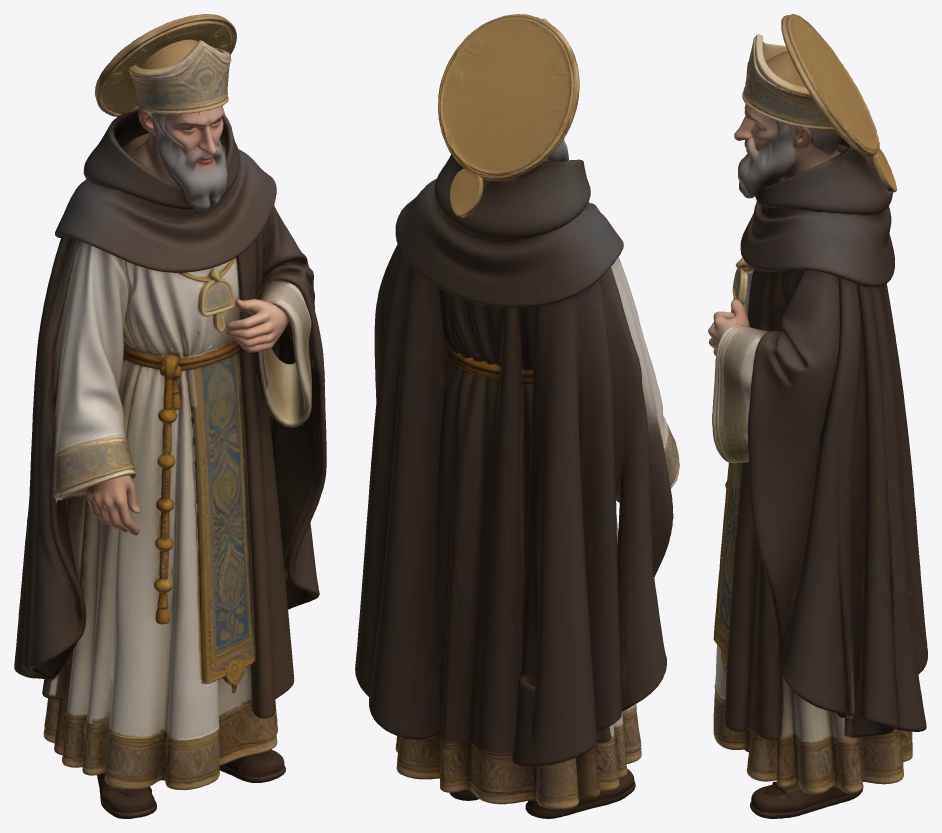
The model's file is Γρηγοριος compressed.glb.
3 renders of one model, left to right at view 1: azimuth 30°, elevation 25°; view 2: azimuth 150°, elevation 25°; view 3: azimuth 270°, elevation 25°, orthographic.
Visible parts, largest first — view 1: node_0; view 2: node_0; view 3: node_0.
Part boxes in pixels (x1,y1,x2,y2): node_0: [14, 14, 326, 818]; node_0: [355, 14, 679, 818]; node_0: [708, 14, 927, 818].
Bounding box in the file's own units: 0.4473 × 1.16 × 0.3056.
1 material, 1 textured.
